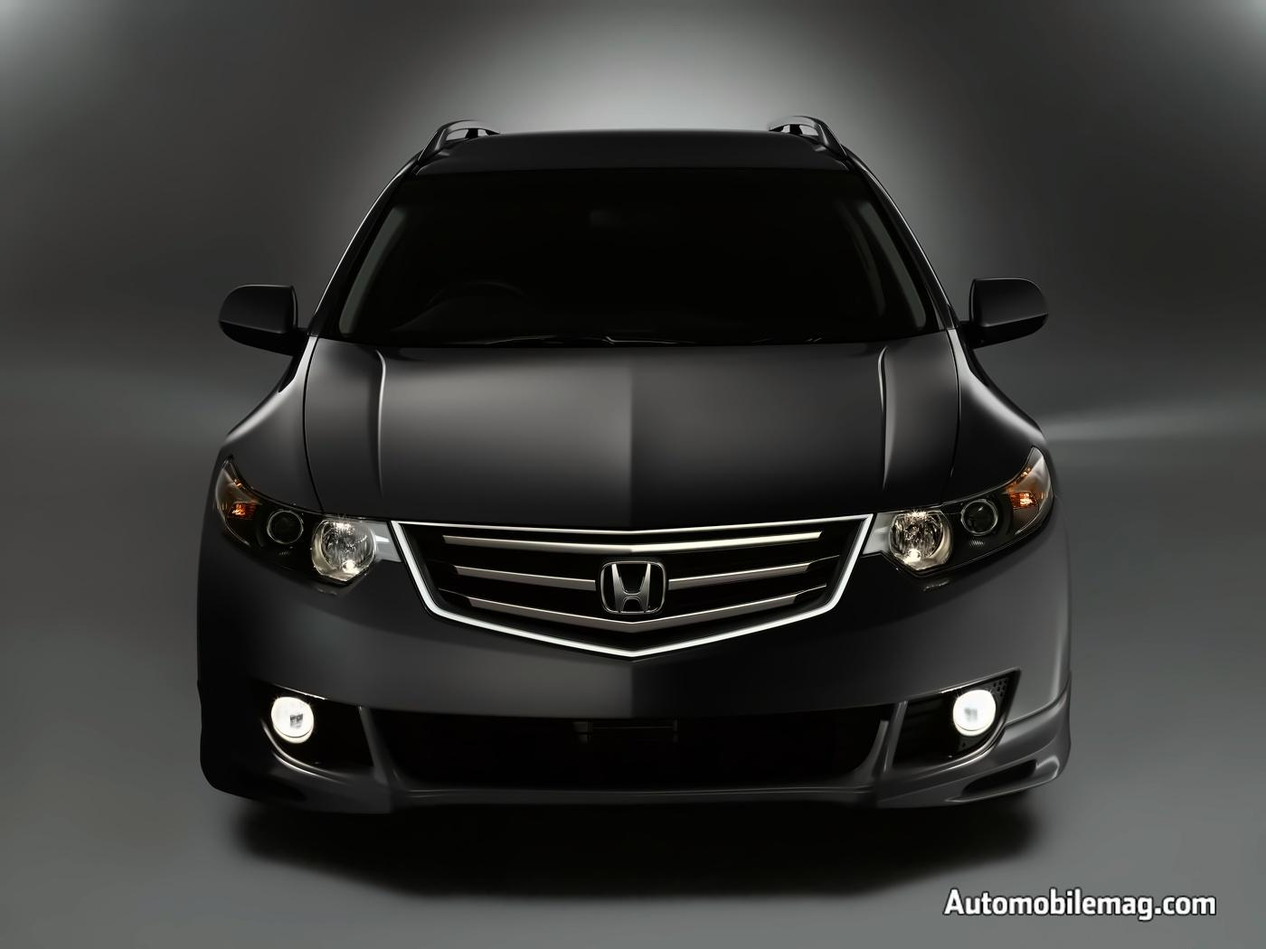Car hood: (234, 326, 1042, 534)
Front bumper: (190, 548, 1075, 850)
Headlight - -L-: (855, 439, 1055, 627)
Headlight - -R-: (208, 454, 402, 611)
Side mirror - -R-: (956, 273, 1059, 355), (219, 279, 311, 360)
